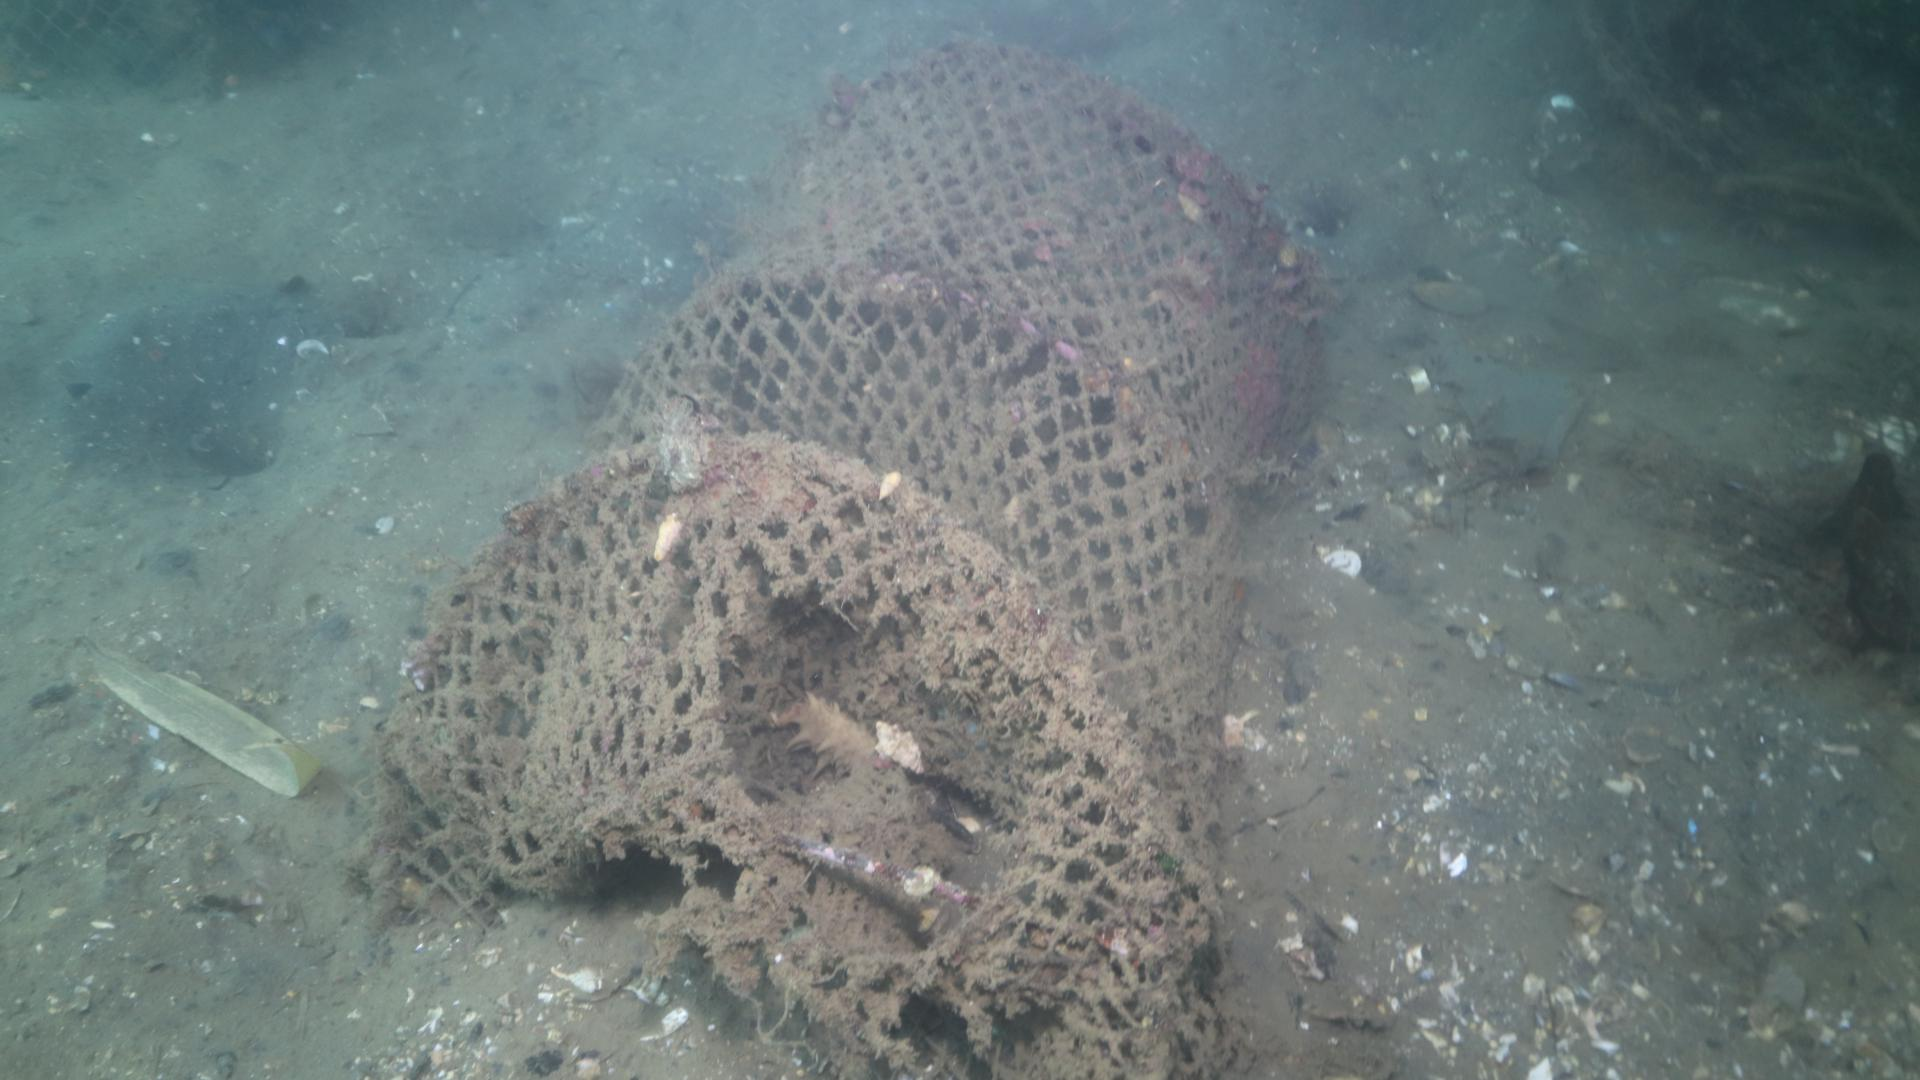spring fish trap: (375, 44, 1319, 1080)
